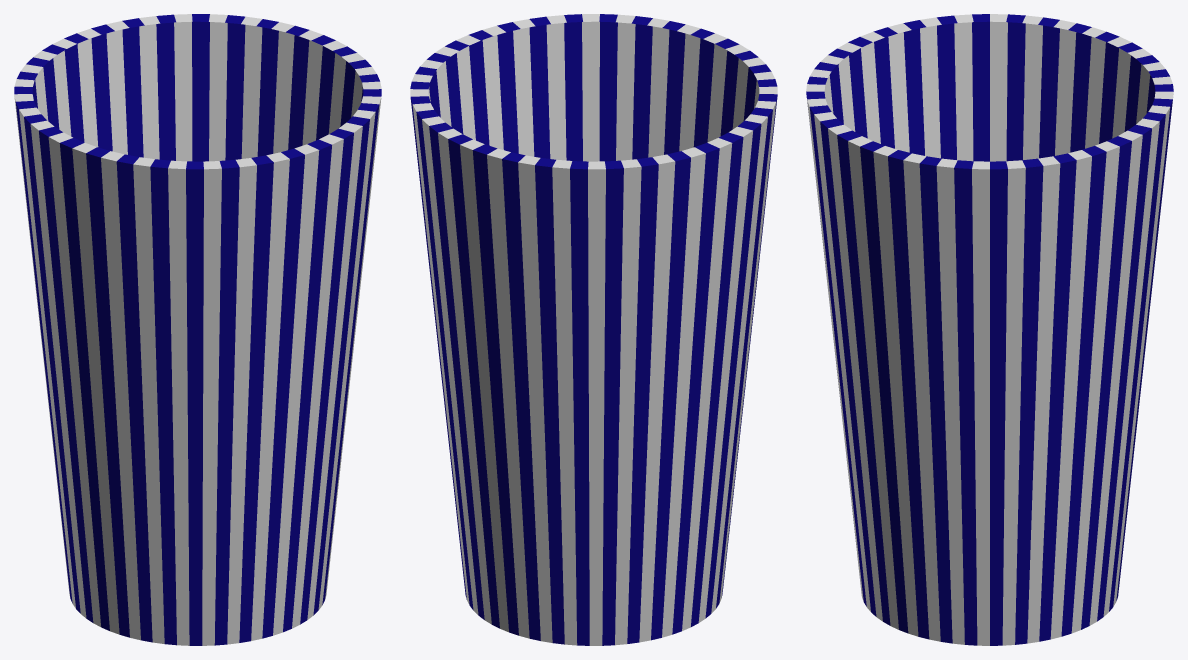
File: Cup Blue.glb
3 renders of one model, left to right at view 1: azimuth 30°, elevation 25°; view 2: azimuth 150°, elevation 25°; view 3: azimuth 270°, elevation 25°, orthographic.
Visible parts, largest first — view 1: Cone; view 2: Cone; view 3: Cone.
Boxes of the visible parts, x1,y1,x2,y2 form: Cone: (14,14,381,645); Cone: (410,14,777,645); Cone: (806,14,1173,645).
Size of the model in its own units: 0.2 by 0.3 by 0.2.
